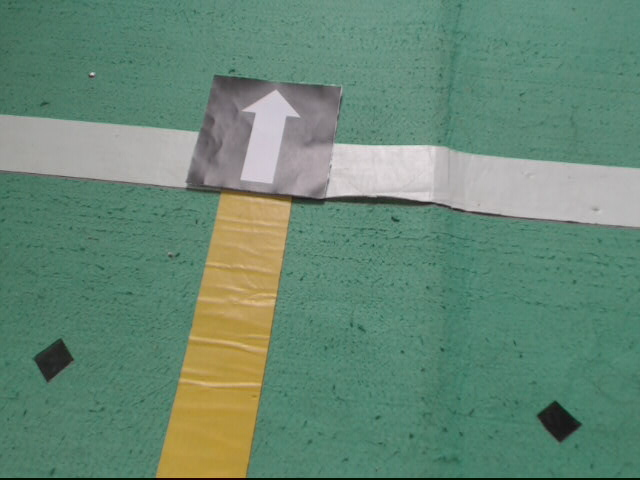straight: (186, 76, 339, 202)
